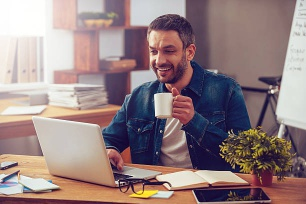male: (143, 18, 196, 86)
